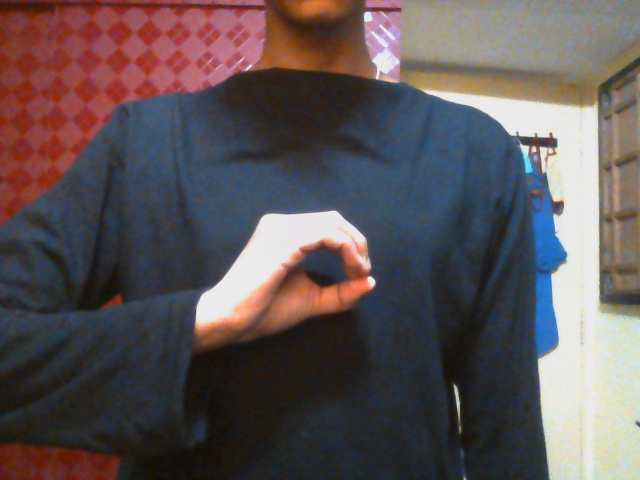O: (216, 211, 377, 344)
